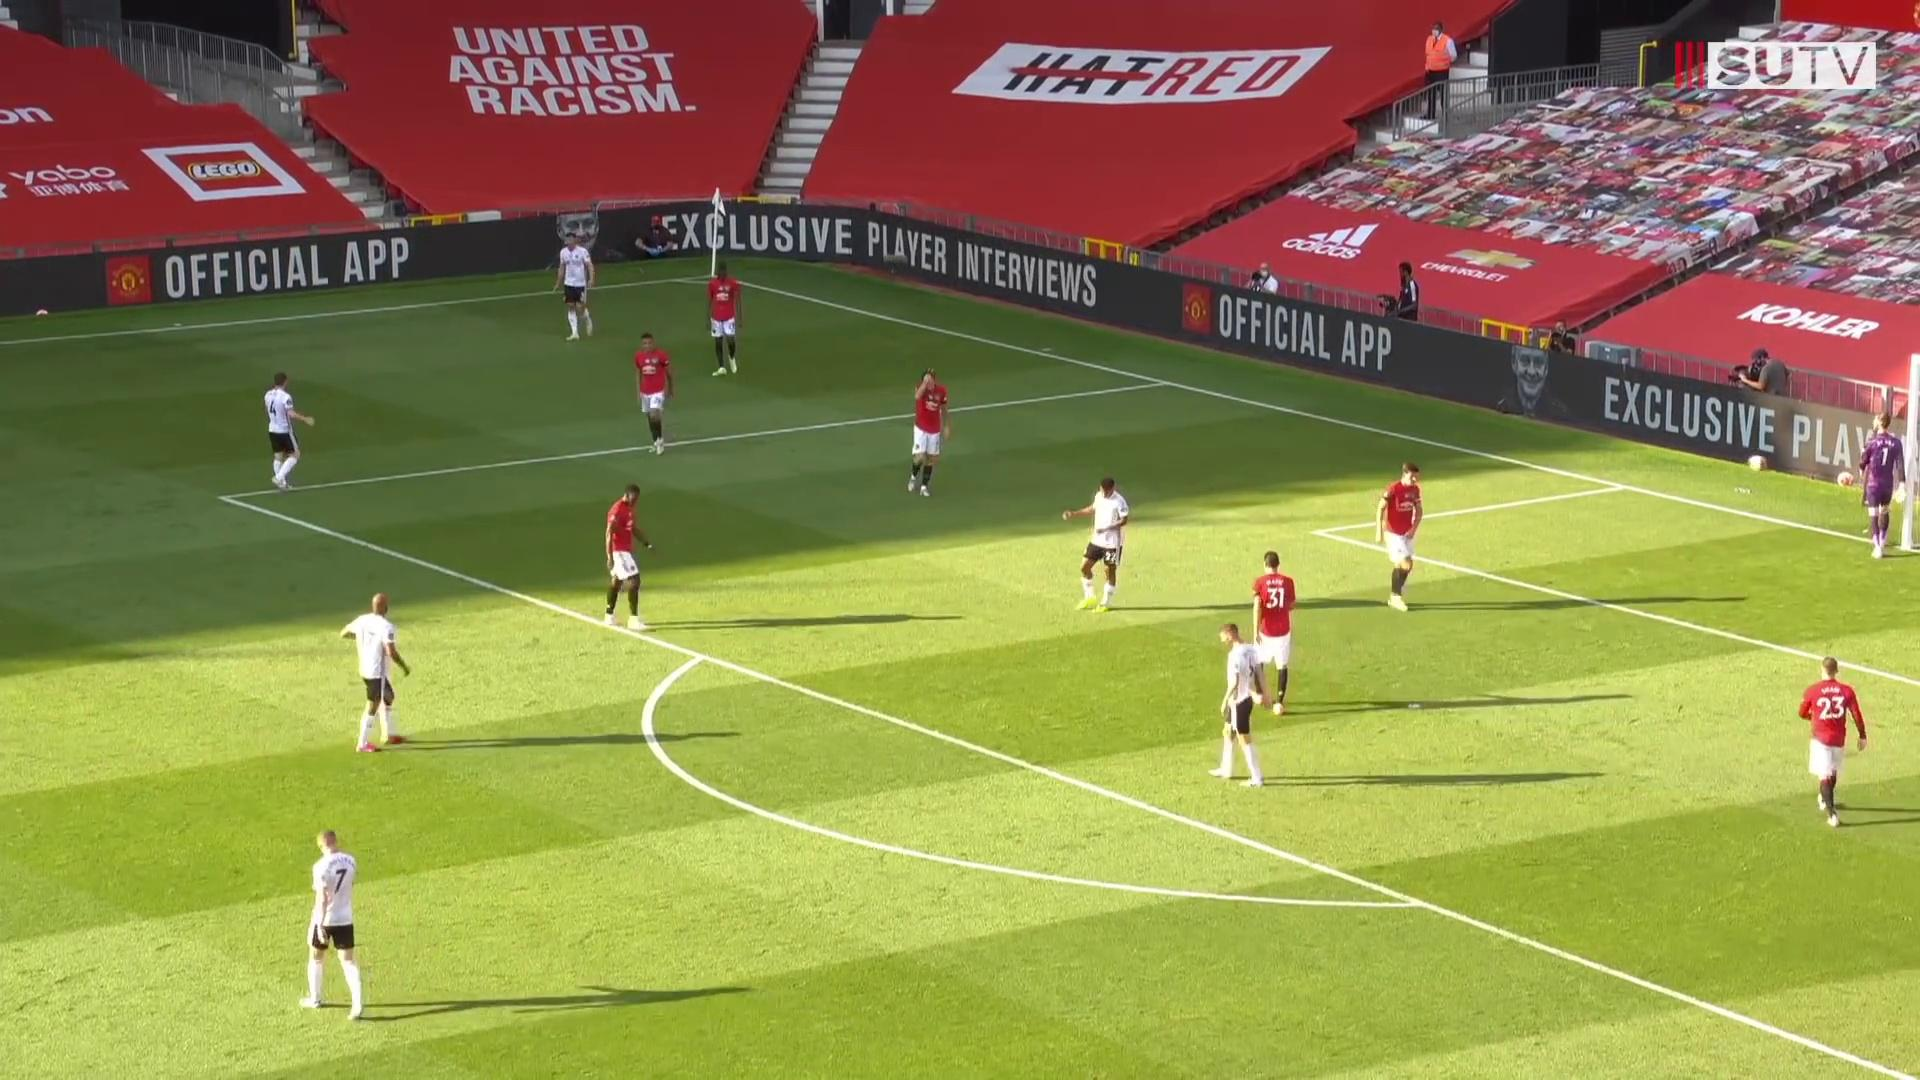ball: (1743, 450, 1770, 475), (1836, 471, 1858, 490)
player: (292, 823, 367, 1023), (1793, 653, 1873, 835), (338, 592, 414, 759), (1062, 473, 1141, 613), (1214, 618, 1275, 791), (1244, 550, 1306, 716), (600, 482, 660, 641), (1851, 409, 1911, 564), (1376, 460, 1429, 611), (901, 366, 955, 502), (258, 368, 313, 496), (631, 328, 680, 458), (555, 230, 606, 346), (702, 262, 751, 380)
